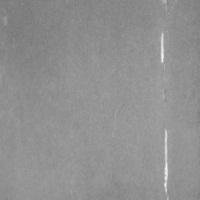scratches: (158, 126, 175, 200), (157, 30, 169, 67)
